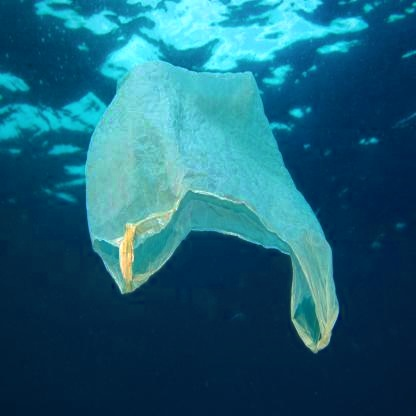pbag: (85, 58, 341, 356)
